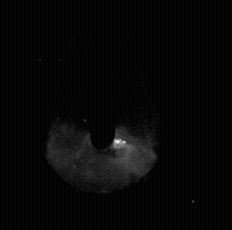arame: (91, 0, 116, 149)
poca: (47, 0, 156, 230)
